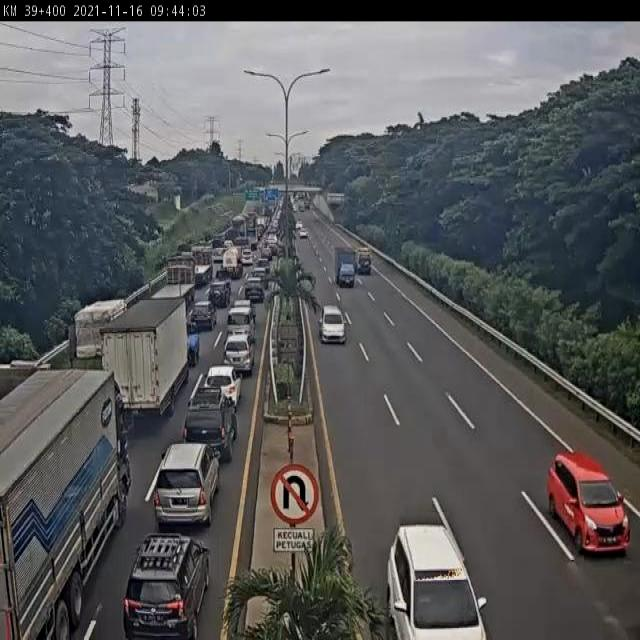Car: (383, 522, 482, 640), (543, 448, 631, 562), (121, 532, 210, 639), (150, 441, 222, 527), (182, 393, 233, 446), (223, 331, 255, 377), (204, 364, 242, 402), (318, 304, 346, 344), (189, 301, 217, 332), (227, 302, 255, 332), (266, 196, 284, 240), (243, 278, 266, 303), (252, 264, 270, 286), (212, 247, 226, 264), (299, 226, 308, 238), (298, 203, 304, 212)
Truck: (0, 364, 128, 638), (99, 298, 189, 428), (355, 239, 381, 278), (335, 248, 356, 289), (245, 214, 257, 236), (257, 204, 271, 220), (256, 222, 265, 240), (295, 192, 305, 201), (304, 200, 310, 210)
